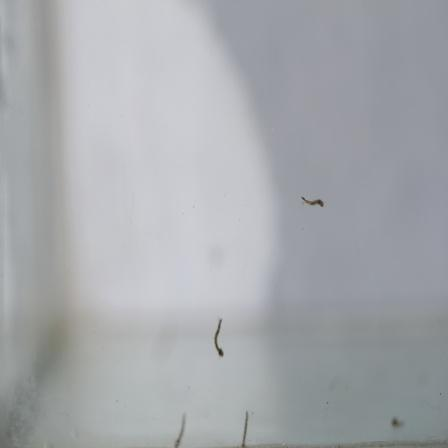Jentik-Nyamuk: (212, 316, 229, 360), (297, 191, 332, 211)
